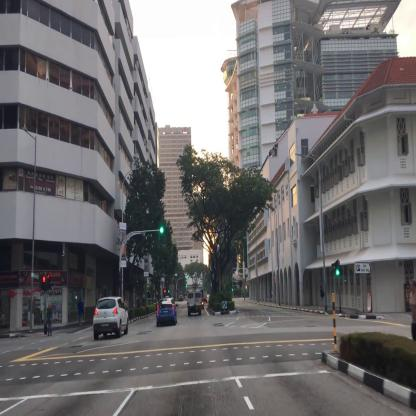green_traffic_light: (160, 228, 170, 233)
